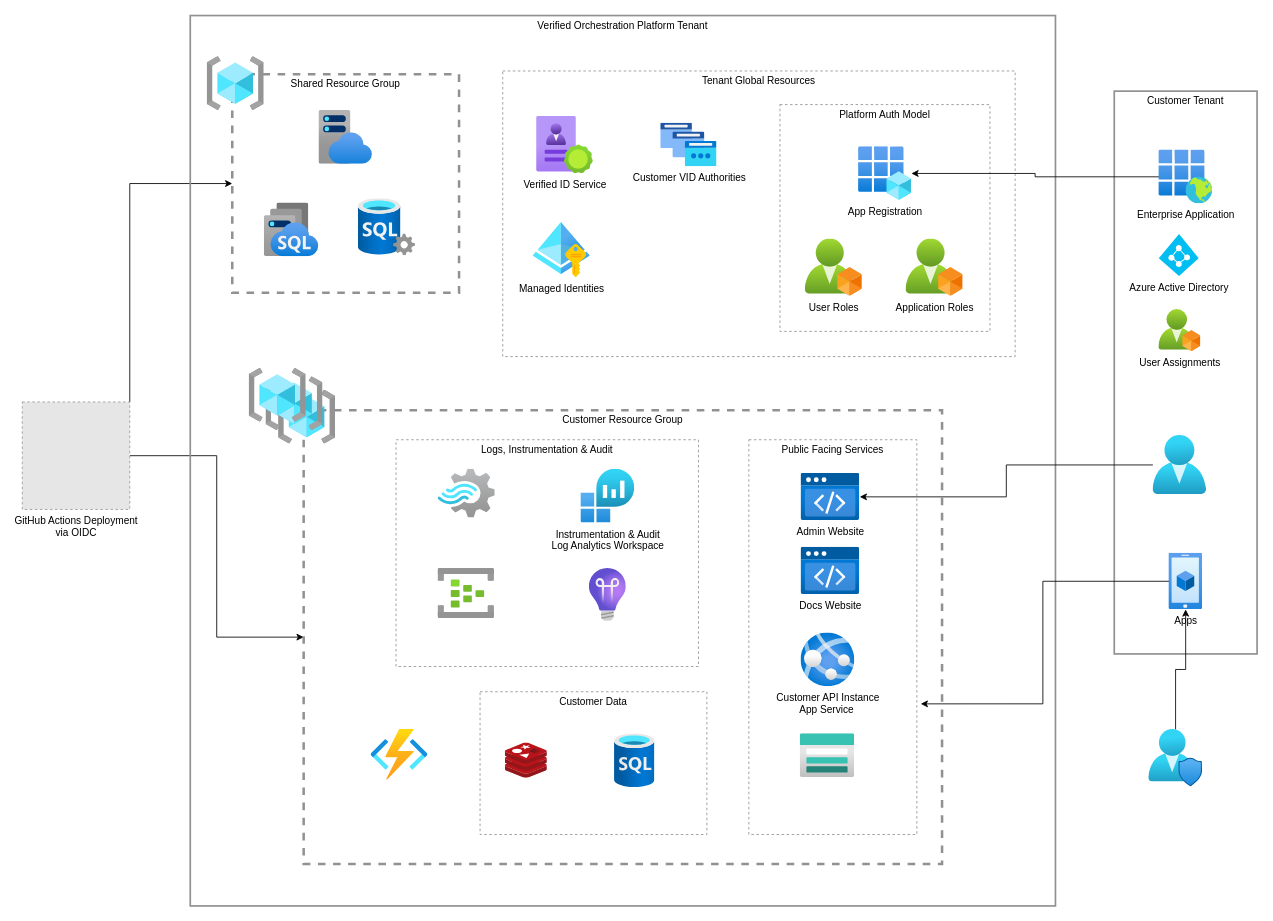
Image size: 1273x921. Some labels were removed from this diagram. Grey dashed boxes stand in for pictures. The centre of each missing label's shape, as x and y in pixels:
"App Service Plan" goes at [345,137].
"Azure SQL Server" goes at [386,226].
"Credential Users" goes at [1175,757].
"Customer Audit Data Event Hub" goes at [466,593].
"Customer Azure SQL DB" goes at [634,760].
"DB Migrations Package" goes at [399,754].
"Elastic Pool" goes at [291,229].
"Extract Audit Data Stream Analytics Job" goes at [466,493].
"Image Storage Account" goes at [827,755].
"Platform Admins" goes at [1179,464].
"Platform Instrumentation App Insights" goes at [607,594].
"Redis" goes at [526,760].
